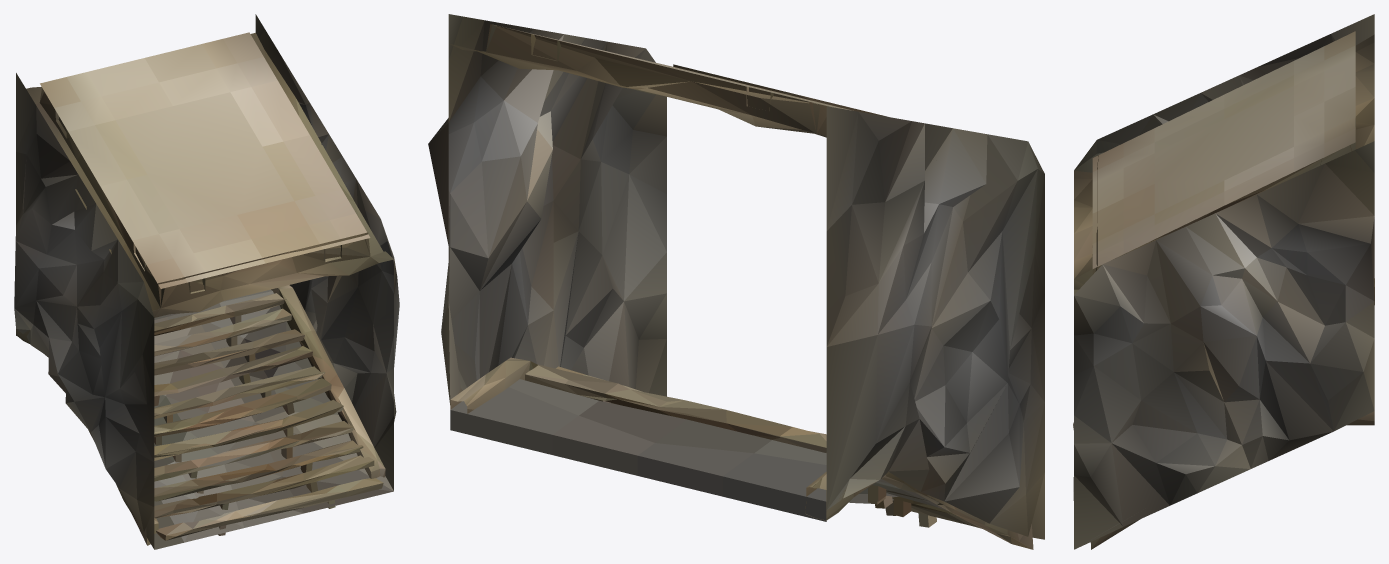
Rendered from UG-StairsA.fbx.
3 views of the same model, side by side, from view 1: azimuth 30°, elevation 25°; view 2: azimuth 150°, elevation 25°; view 3: azimuth 270°, elevation 25° (orthographic). The views are drawn at different scales.
Visible parts, largest first — view 1: UG-StairsA; view 2: UG-StairsA; view 3: UG-StairsA.
Part boxes in pixels (left/top/right/bottom): UG-StairsA: left=14, top=14, right=399, bottom=549; UG-StairsA: left=428, top=14, right=1044, bottom=549; UG-StairsA: left=1073, top=14, right=1374, bottom=549.
Bounding box in the file's own units: 452 × 607 × 401.
